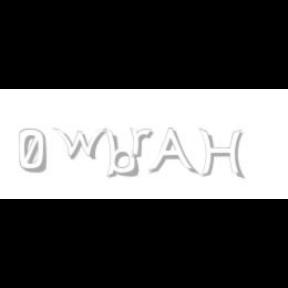0: (18, 128, 50, 174)
A: (148, 128, 196, 176)
H: (199, 128, 245, 180)
b: (104, 128, 142, 178)
r: (130, 128, 156, 158)
w: (52, 128, 112, 160)
